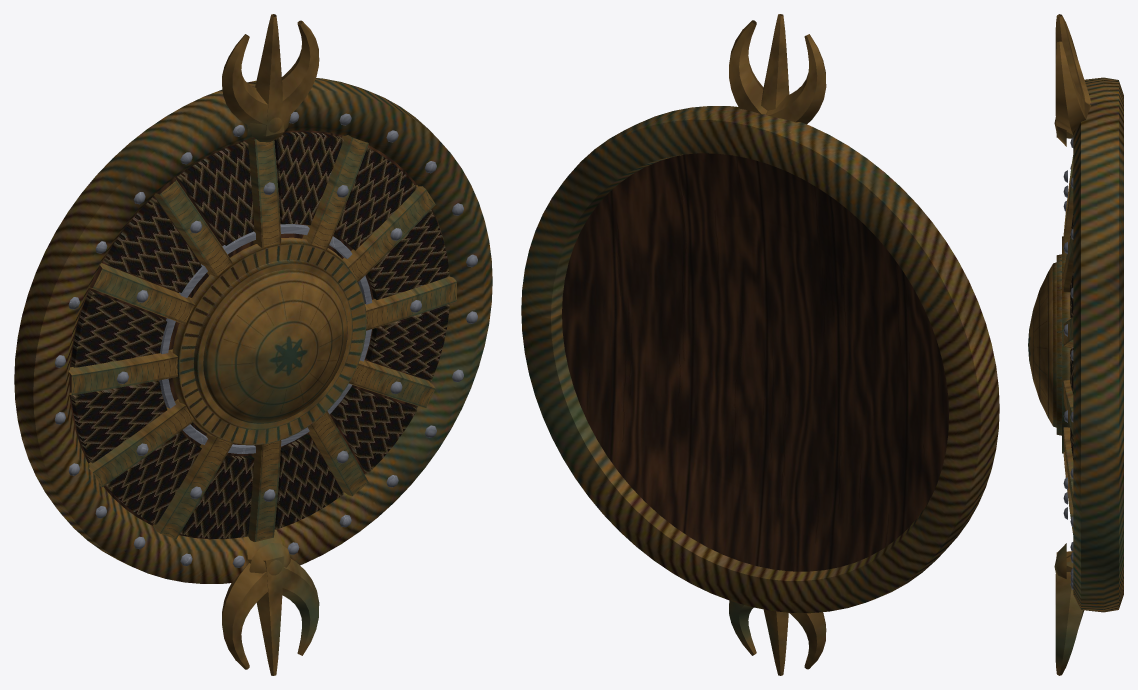
File: shield.glb
3 renders of one model, left to right at view 1: azimuth 30°, elevation 25°; view 2: azimuth 150°, elevation 25°; view 3: azimuth 270°, elevation 25°, orthographic.
Visible parts, largest first — view 1: Escudo_Bronce, Escudo_Cuero, Escudo_Acero, Escudo_Madera; view 2: Escudo_Madera, Escudo_Bronce; view 3: Escudo_Bronce, Escudo_Acero, Escudo_Cuero.
Boxes of the visible parts, <box> form: Escudo_Bronce: <box>14,14,492,675</box>; Escudo_Cuero: <box>71,132,449,538</box>; Escudo_Acero: <box>54,112,477,567</box>; Escudo_Madera: <box>69,130,442,539</box>; Escudo_Madera: <box>562,153,948,571</box>; Escudo_Bronce: <box>521,14,999,675</box>; Escudo_Bronce: <box>1028,14,1123,675</box>; Escudo_Acero: <box>1063,137,1073,589</box>; Escudo_Cuero: <box>1070,214,1073,459</box>.
Size of the model in its own units: 1.06 by 1.44 by 0.19.
4 materials, 4 textured.
